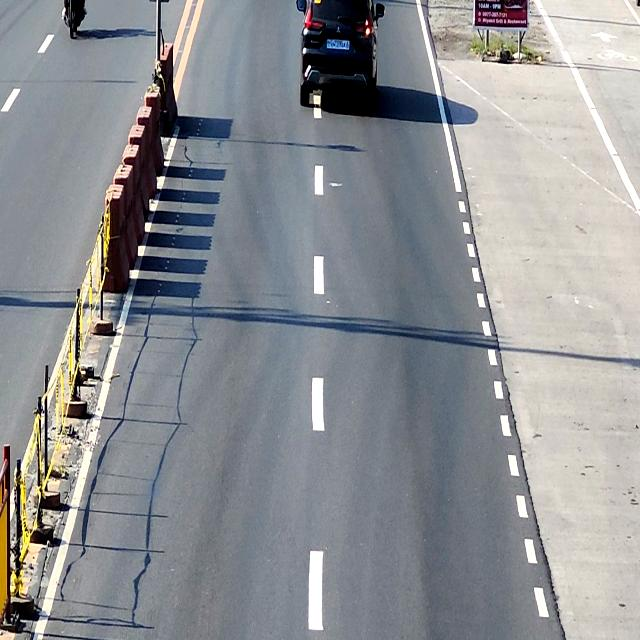Car: (296, 0, 384, 108)
License-Plate: (327, 40, 350, 51)
